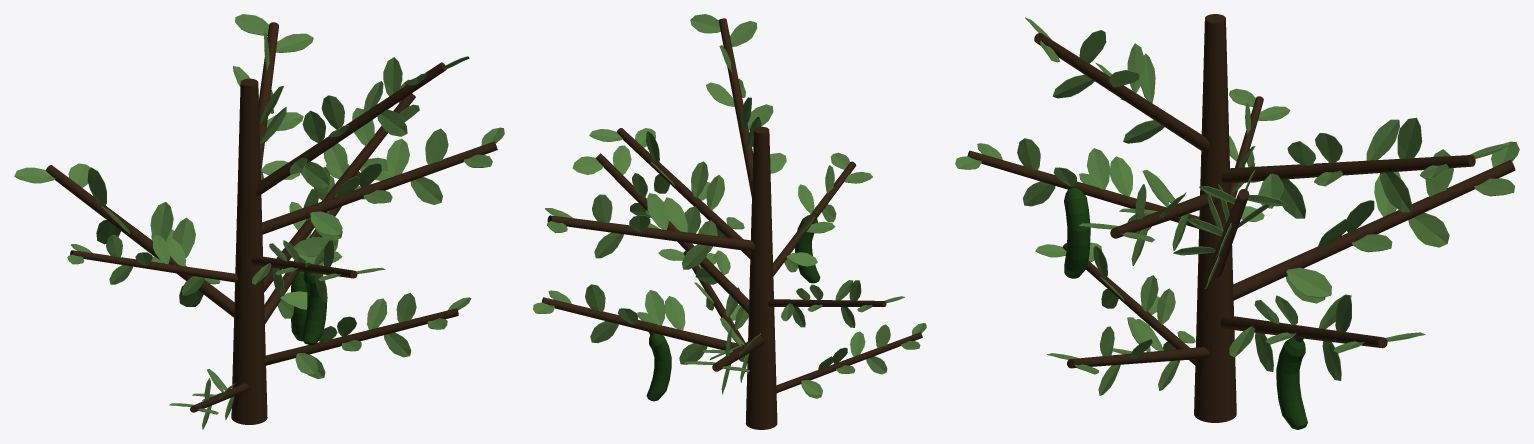
Rendered from Cucumber_Bush.fbx.
The picture shows the model from 3 angles, left to right: view 1: azimuth 30°, elevation 25°; view 2: azimuth 150°, elevation 25°; view 3: azimuth 270°, elevation 25°; orthographic projection. The views are drawn at different scales.
Parts seen in each view (by area): view 1: cucumber; view 2: cucumber; view 3: cucumber.
Boxes of the visible parts, <box> form: cucumber: <box>14,14,504,429</box>; cucumber: <box>533,14,926,429</box>; cucumber: <box>955,14,1519,429</box>.
Size of the model in its own units: 381 by 349 by 398.
